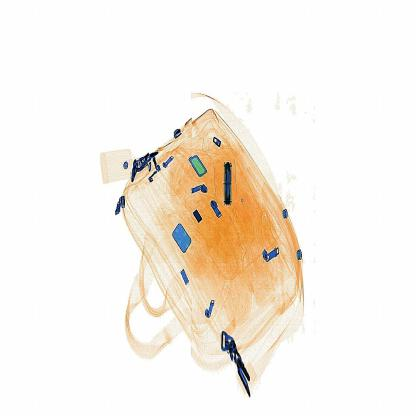scissors: (218, 151, 239, 210)
